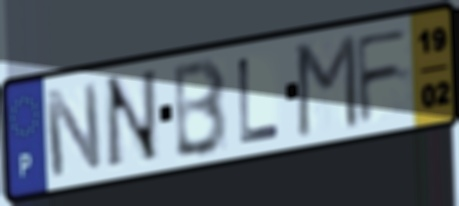B: (172, 55, 231, 161)
F: (352, 23, 413, 128)
L: (236, 53, 284, 147)
M: (294, 30, 361, 141)
N: (102, 65, 163, 175), (41, 79, 105, 181)
